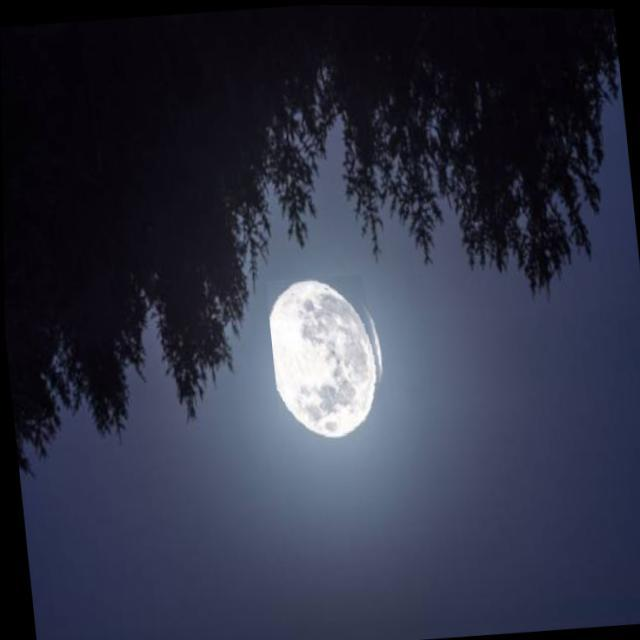moon: (264, 271, 391, 440)
